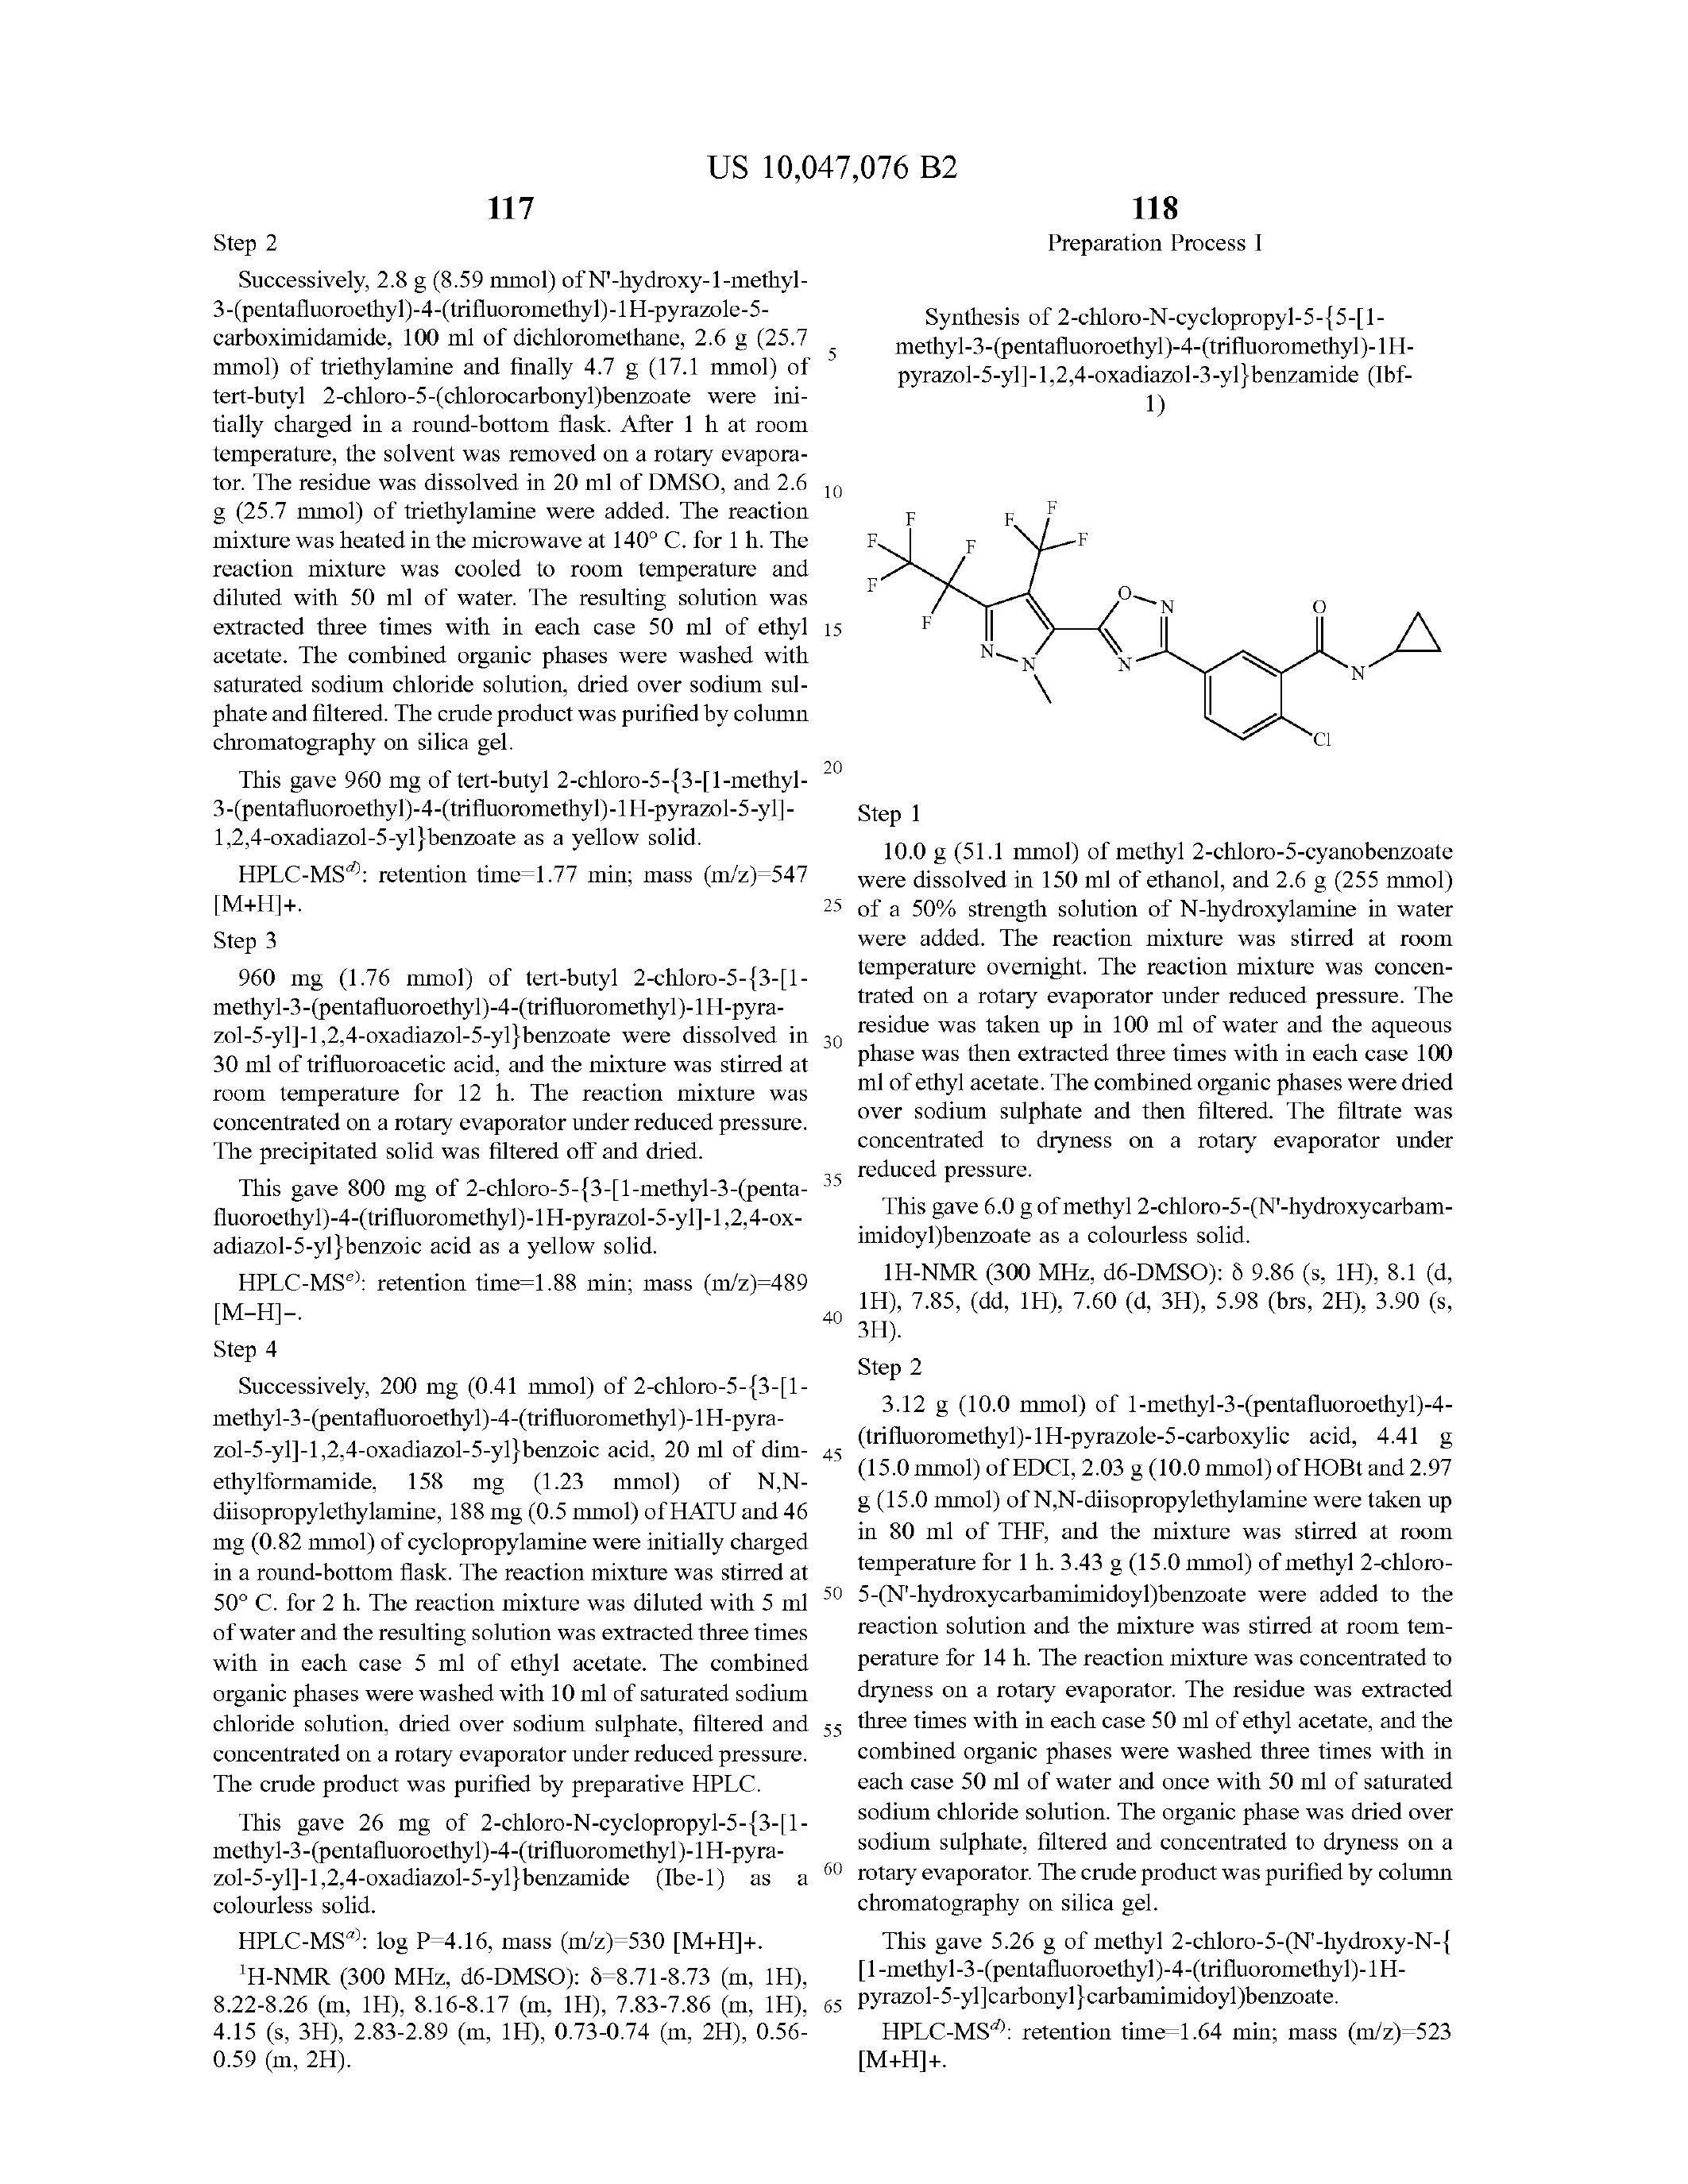relevant-structures: (860, 480, 1562, 787)
